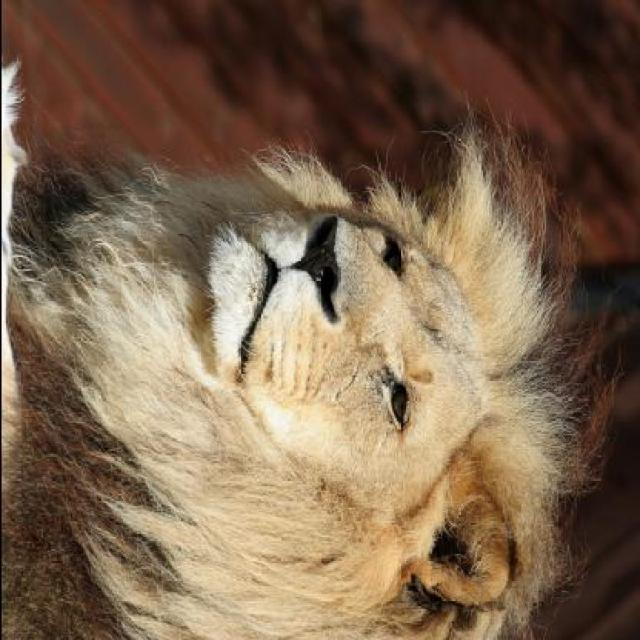Lion: (8, 80, 609, 634)
